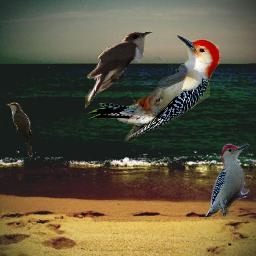Cuckoo: (85, 30, 153, 111), (6, 102, 33, 157)
Woodpecker: (87, 35, 220, 142), (204, 143, 250, 219)
